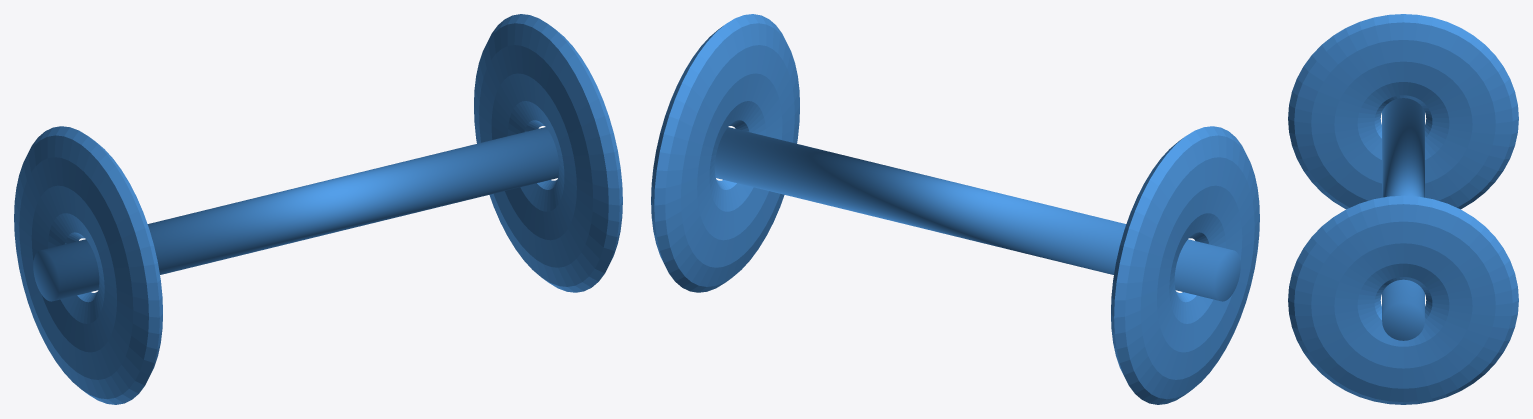
The model's file is jockweight.fbx.
3 renders of one model, left to right at view 1: azimuth 30°, elevation 25°; view 2: azimuth 150°, elevation 25°; view 3: azimuth 270°, elevation 25°, orthographic. The views are drawn at different scales.
Visible parts, largest first — view 1: Torus.001; view 2: Torus.001; view 3: Torus.001.
Boxes of the visible parts, x1,y1,x2,y2 form: Torus.001: (14,14,622,404); Torus.001: (651,14,1259,404); Torus.001: (1288,14,1518,404).
Size of the model in its own units: 67.42 by 29.97 by 29.97.
